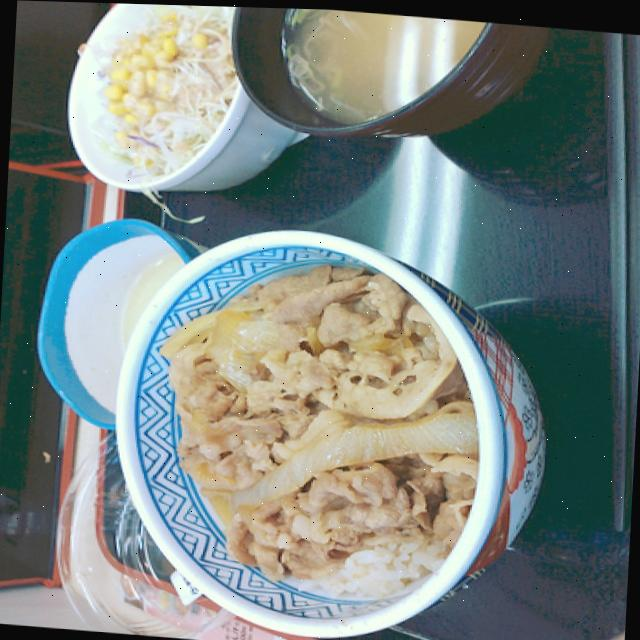汤锅炖物: (219, 5, 487, 148)
蔬菜料理: (61, 1, 250, 208)
